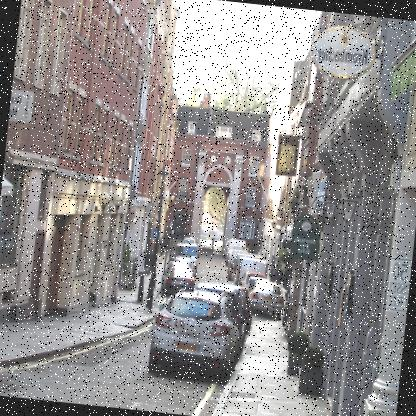Car: (146, 274, 249, 386), (222, 246, 290, 314), (162, 260, 197, 298)
